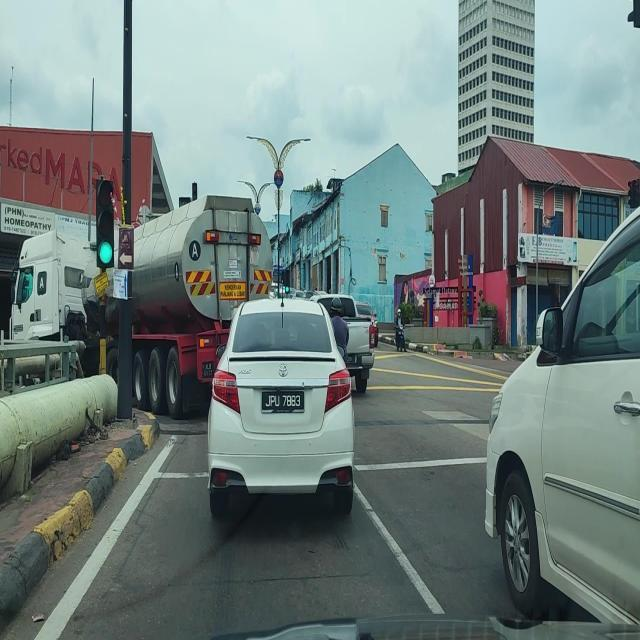green_light: (96, 180, 114, 268), (284, 270, 290, 294)
